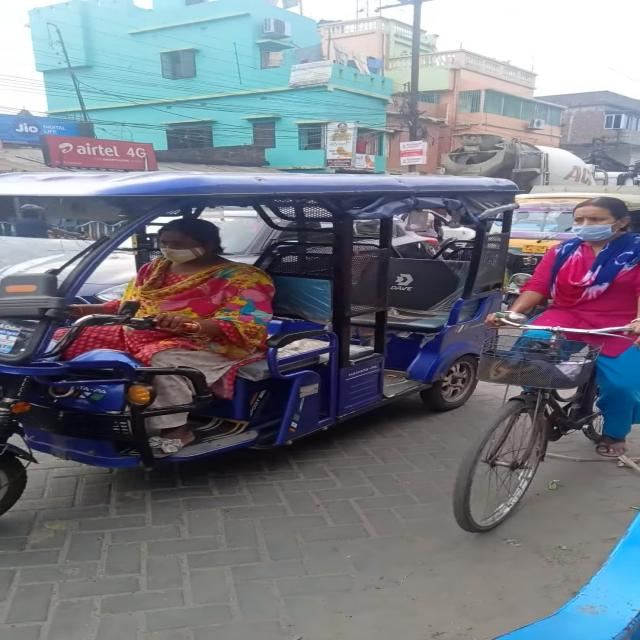Toto: (24, 172, 507, 494)
